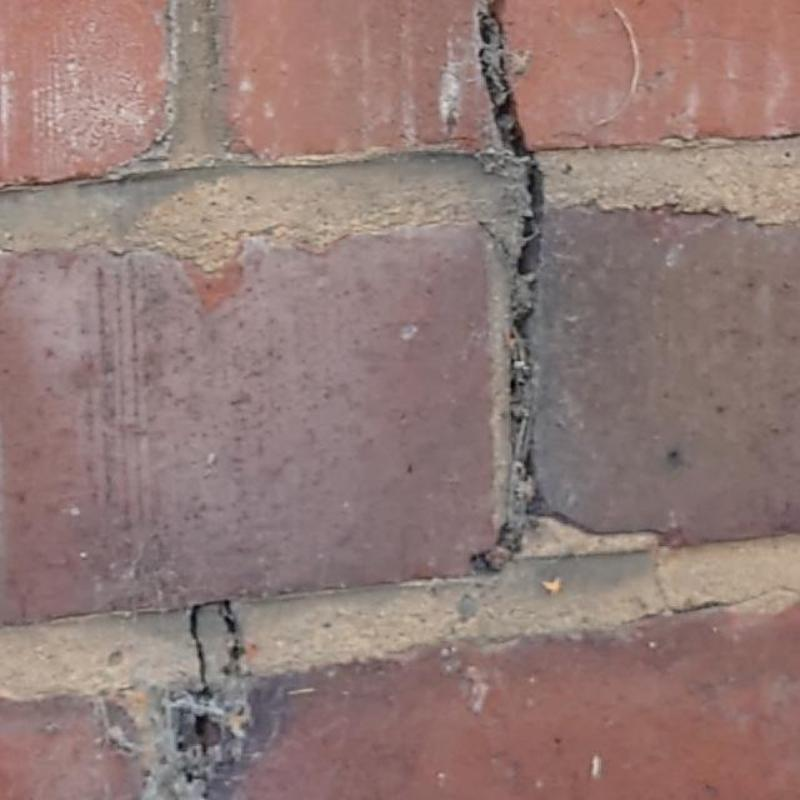crack: (479, 0, 544, 570), (171, 596, 255, 799), (652, 549, 799, 614), (534, 499, 665, 536), (478, 219, 514, 260)
